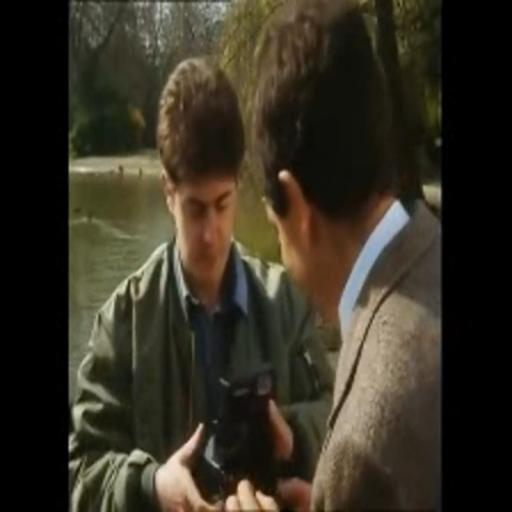nao-violencia: (69, 3, 445, 512)
